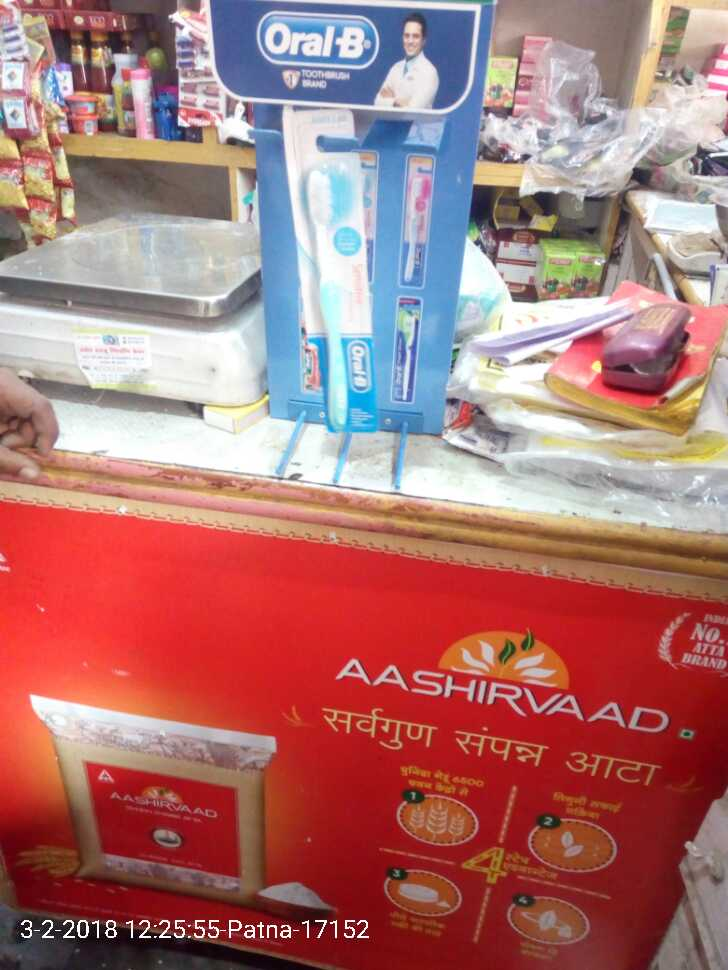oralb: (289, 166, 386, 433)
